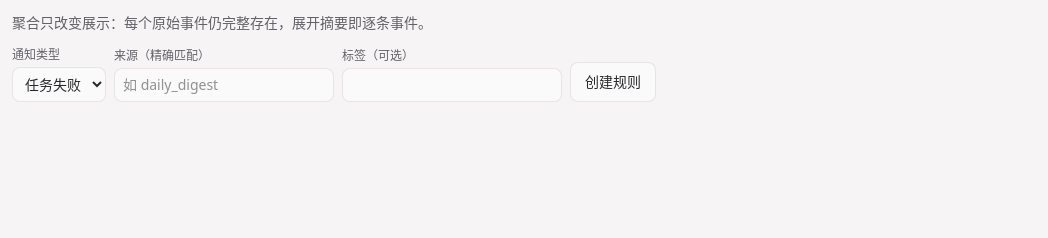
Test: NEW-392 聚合规则 › 创建规则 + 分组摘要展开即逐条原始事件
Type "digest" into the field labelled "来源（精确匹配）" at coordinates (224, 85), box [114,68,334,102]
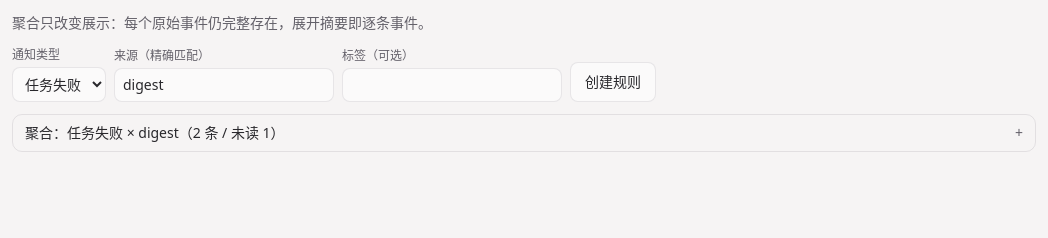
Click the button "创建规则" at coordinates (613, 82), box [570,62,656,102]
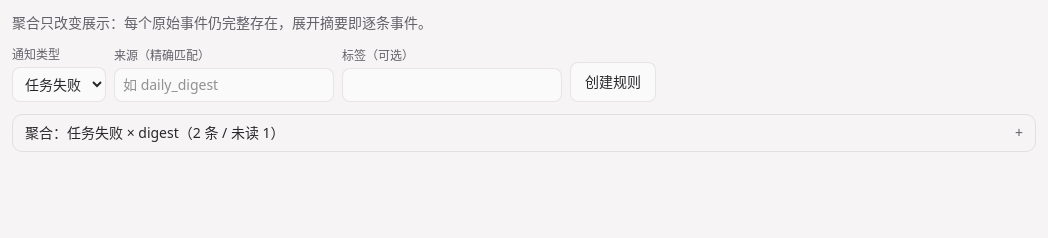
Expected: the button "聚合：任务失败 × digest（2 条 / 未读 1） +" is shown
Click the button "聚合：任务失败 × digest（2 条 / 未读 1） +" at coordinates (155, 132), box [13,115,1035,151]
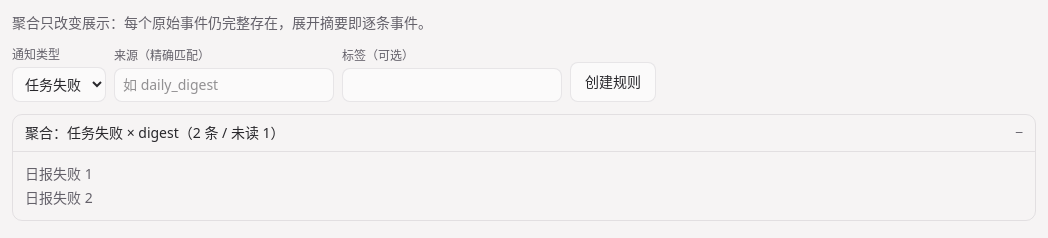
Expected: the list item "日报失败 1" is shown, [25,164,93,183]
Expected: the list item "日报失败 2" is shown, [25,188,93,207]
